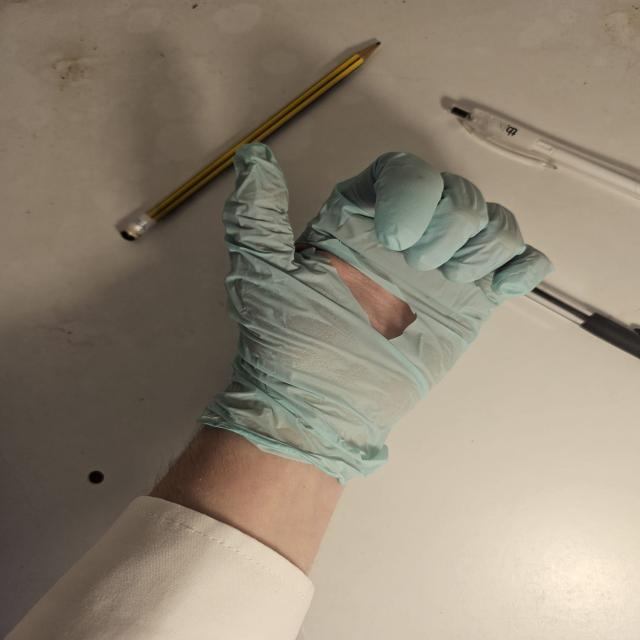gloves_damaged: (192, 138, 560, 475)
